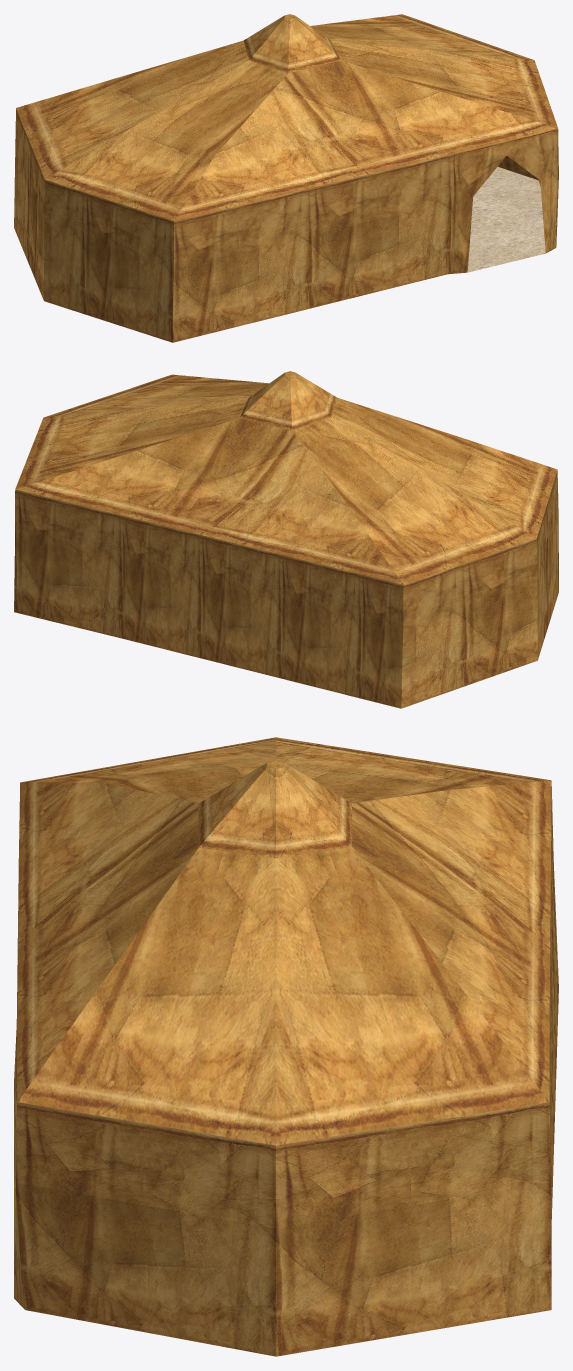
File: ply_tato_idesigner_tent_s01_r1_mesh_r1.fbx
3 views of the same model, one above another, from view 1: azimuth 30°, elevation 25°; view 2: azimuth 150°, elevation 25°; view 3: azimuth 270°, elevation 25° (orthographic). The views are drawn at different scales.
Parts seen in each view (by area): view 1: mesh_node; view 2: mesh_node; view 3: mesh_node.
Boxes of the visible parts, x1,y1,x2,y2 form: mesh_node: (14, 14, 558, 342); mesh_node: (14, 371, 558, 708); mesh_node: (14, 737, 558, 1356).
Bounding box in the file's own units: 14.73 × 6.39 × 8.22.
